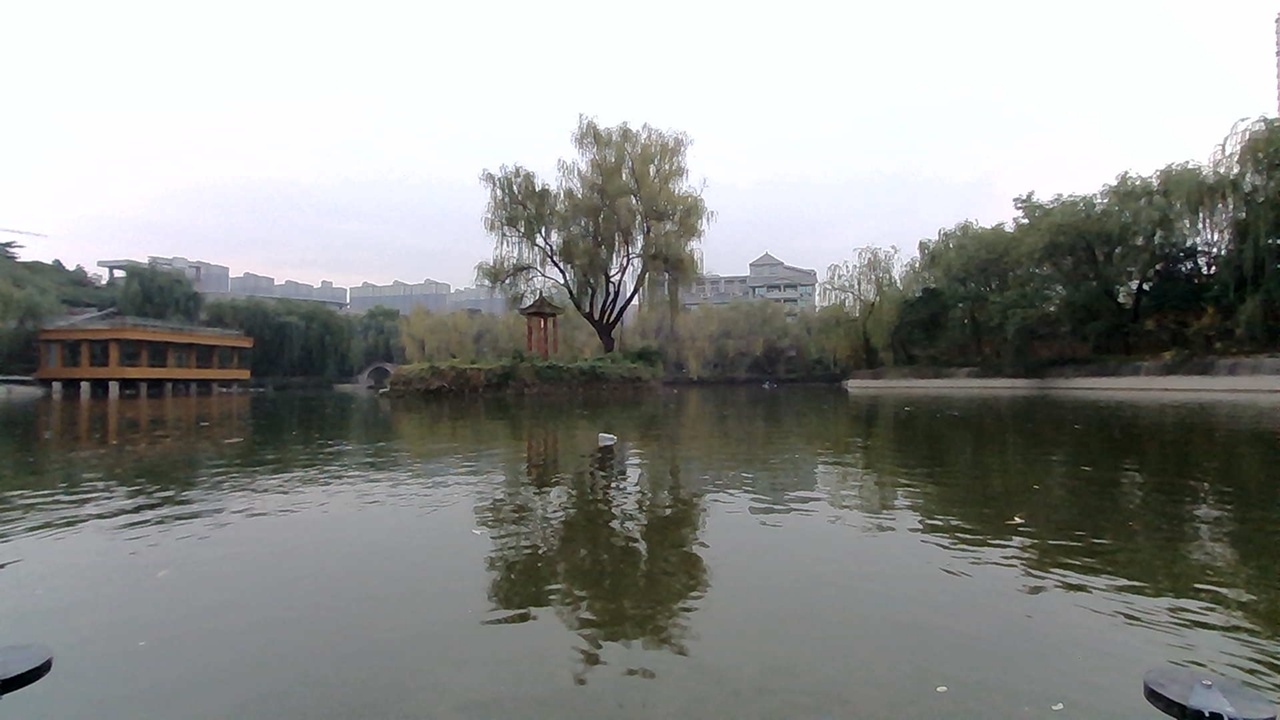bottle: (579, 419, 643, 452)
